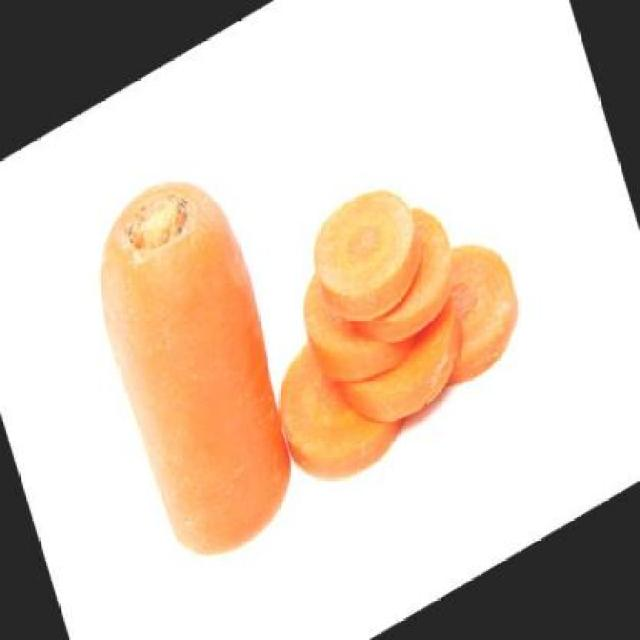carrot: (76, 148, 322, 582)
